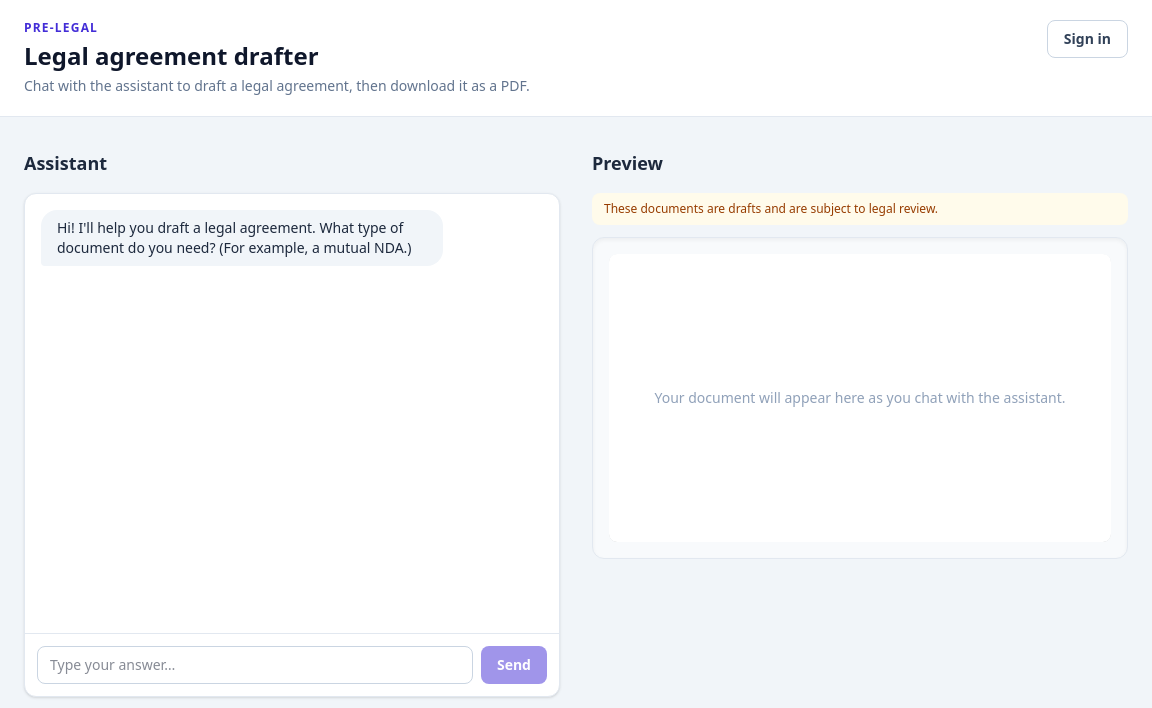
it: Home page › shows 'Sign in to save' for anonymous users on a completed document
The width and height of the screenshot is (1152, 708).
Type "finalize" into the field named "Message" at (255, 665), box x1=37 y1=646 x2=473 y2=684
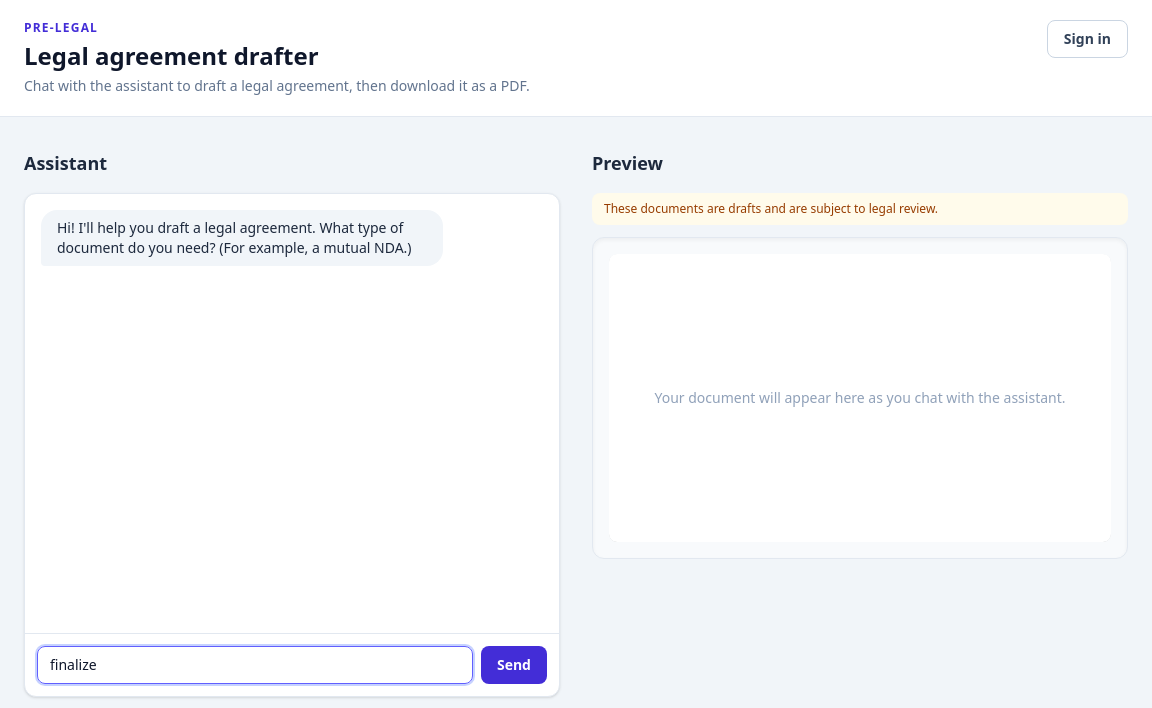
Click the button "Send" at (514, 665), box x1=481 y1=646 x2=547 y2=684
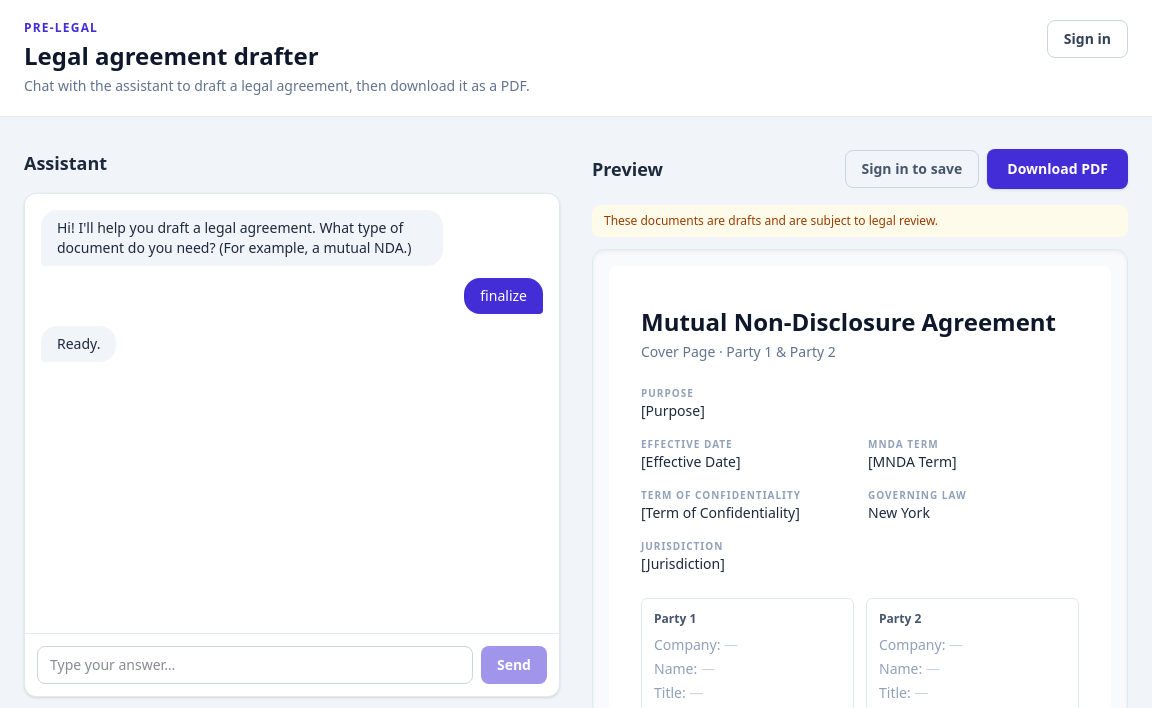
Now the link "Sign in to save" is shown, box x1=844 y1=150 x2=979 y2=188
